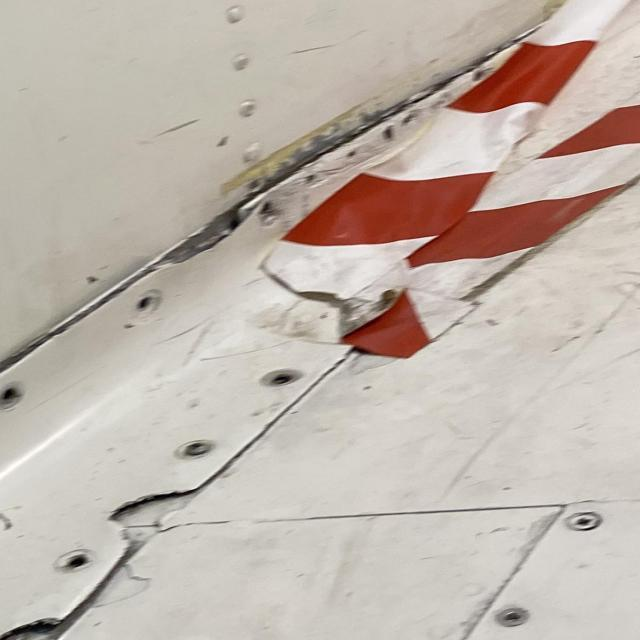Crack: (154, 188, 263, 265), (112, 489, 199, 551), (0, 621, 71, 640)
Missing-head: (495, 606, 533, 629), (57, 551, 93, 574), (263, 369, 304, 387), (137, 291, 164, 316), (0, 384, 24, 411)
Paint-off: (93, 566, 149, 612), (346, 352, 397, 376)
